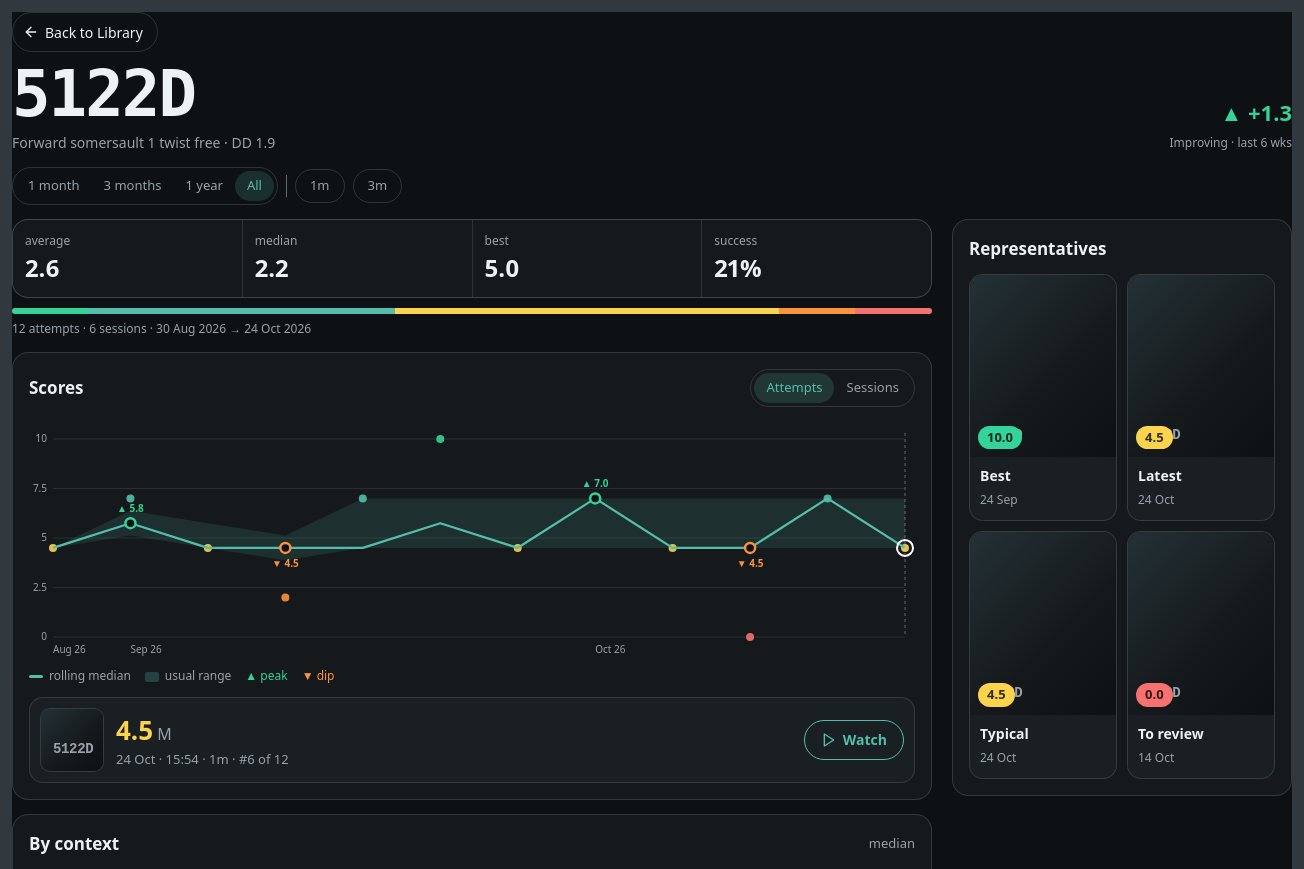
Scenario: height filters narrow the whole page and keep the scroll position
Expected: the heading "5122D" is shown, [12,57,195,131]
Click the button "1m": (320, 186) [295,169,344,203]
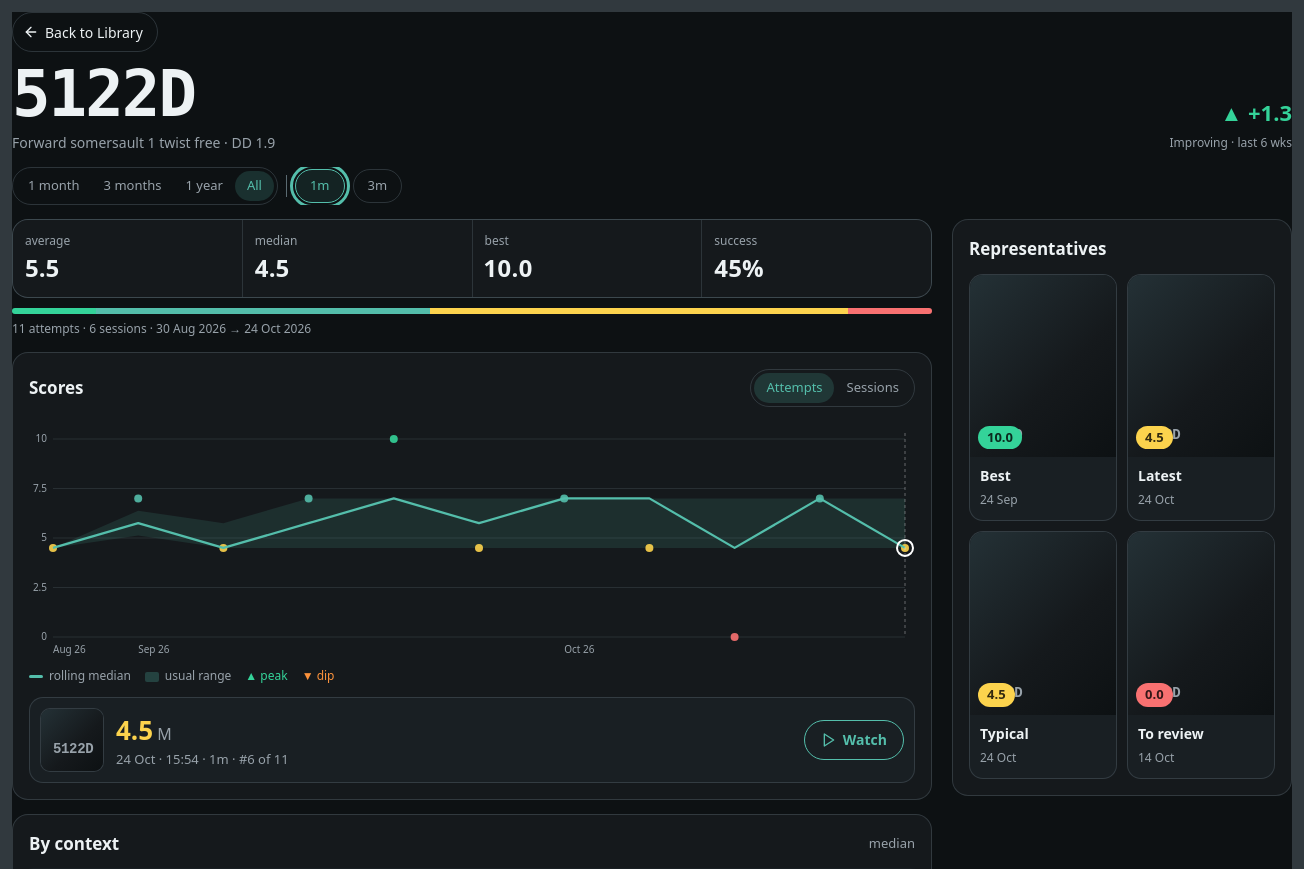
Now the text "11 attempts · 6 sessions · 30 Aug 2026 → 24 Oct 2026" is shown, box [12,320,311,337]
